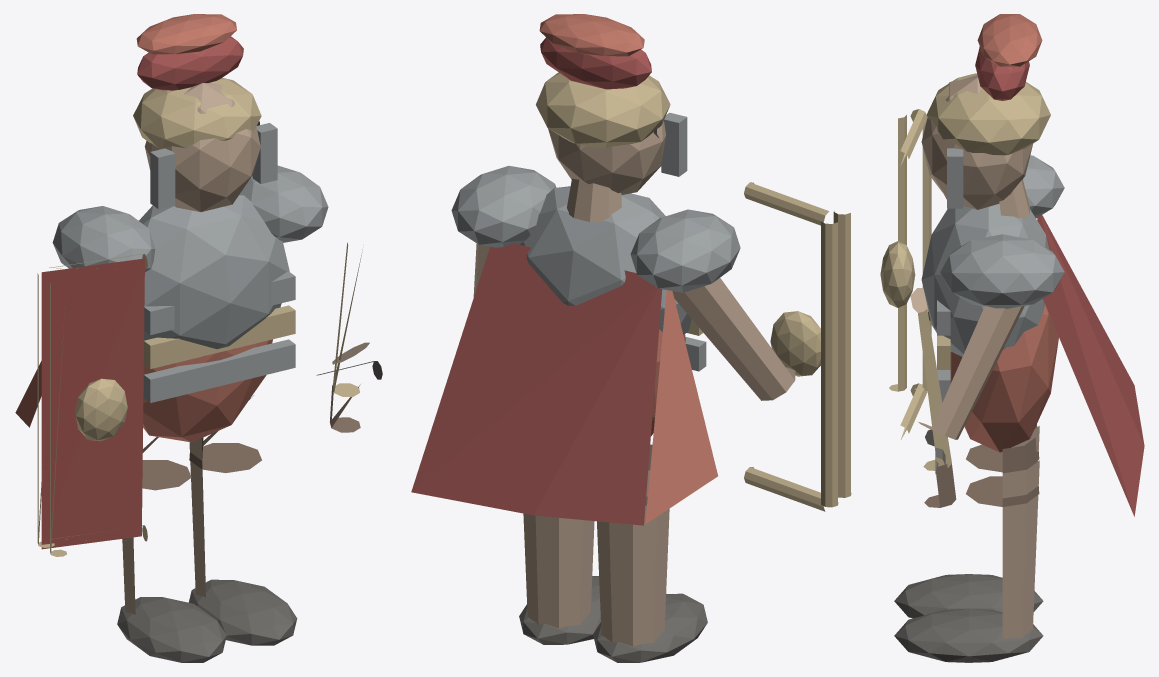
Rendered from roman-medium.glb.
3 renders of one model, left to right at view 1: azimuth 30°, elevation 25°; view 2: azimuth 150°, elevation 25°; view 3: azimuth 270°, elevation 25°, orthographic. The views are drawn at different scales.
Parts seen in each view (by area): view 1: world; view 2: world; view 3: world.
Part boxes in pixels (x1,y1,x2,y2): world: [15, 14, 382, 662]; world: [411, 14, 851, 662]; world: [880, 14, 1144, 662].
Size of the model in its own units: 16.16 by 27.05 by 10.6.
